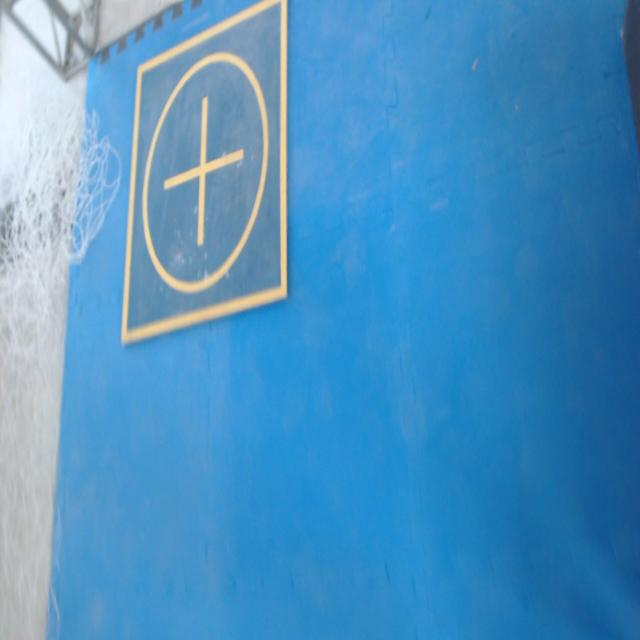base_pouso: (120, 0, 288, 343)
